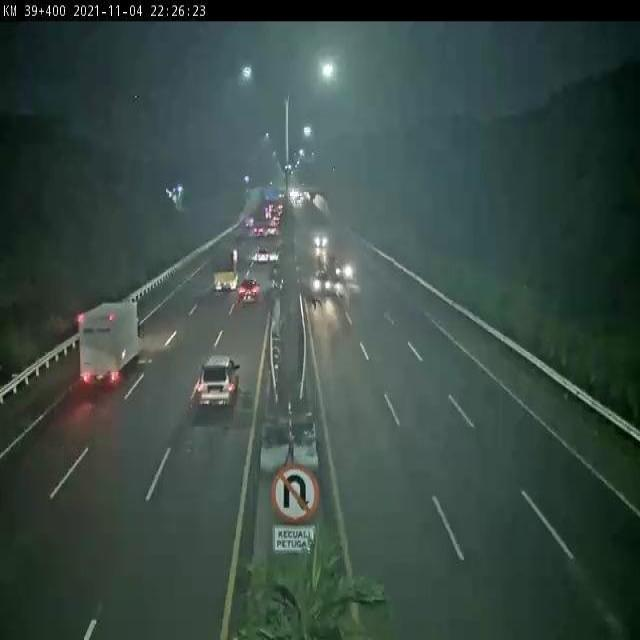Car: (196, 348, 241, 417), (312, 262, 354, 305), (237, 278, 261, 304), (251, 247, 279, 264)
Truck: (75, 286, 150, 408), (209, 238, 244, 305)
